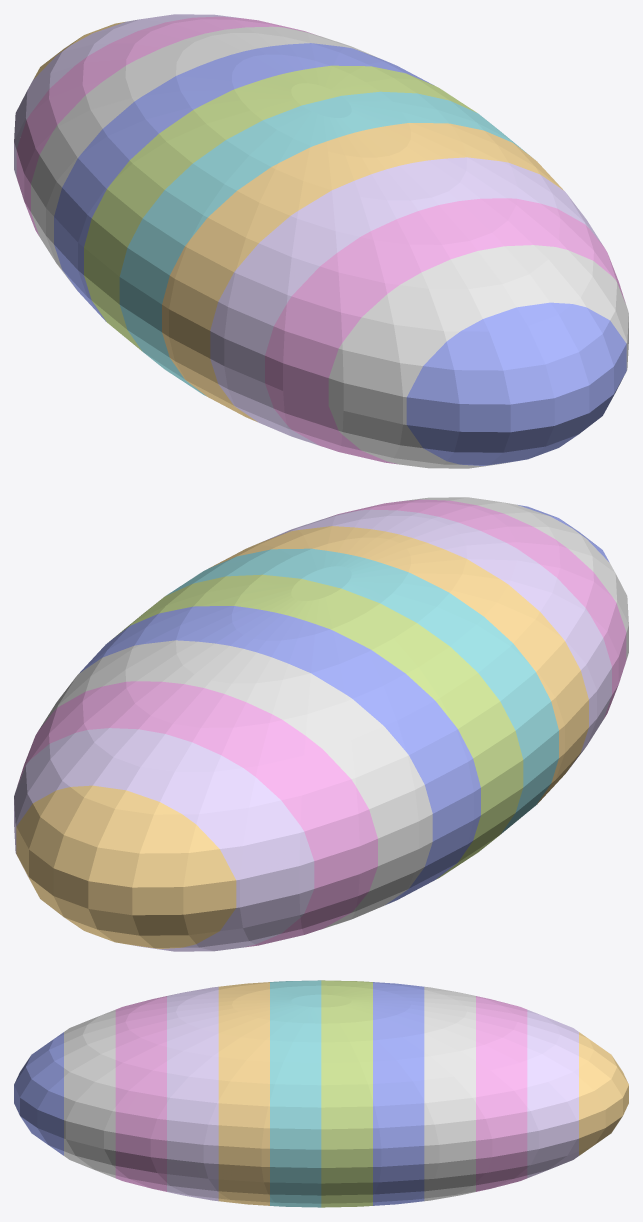
File: generic_ovary_updated.glb
3 renders of one model, top to bottom at view 1: azimuth 30°, elevation 25°; view 2: azimuth 150°, elevation 25°; view 3: azimuth 270°, elevation 25°, orthographic. The views are drawn at different scales.
Visible parts, largest first — view 1: g_oval_ob_A-1-I, g_oval_ob_A-2-I, g_oval_ob_A-3-I, g_oval_ob_A-4-I, g_oval_ob_A-5-I, g_oval_ob_A-6-I, g_oval_ob_A-7-I, g_oval_ob_A-8-I, g_oval_ob_A-9-I, g_oval_ob_A-10-I, g_oval_ob_A-11-I; view 2: g_oval_ob_A-12-I, g_oval_ob_A-11-I, g_oval_ob_A-10-I, g_oval_ob_A-9-I, g_oval_ob_A-8-I, g_oval_ob_A-7-I, g_oval_ob_A-6-I, g_oval_ob_A-5-I, g_oval_ob_A-4-I, g_oval_ob_A-3-I, g_oval_ob_A-2-I; view 3: g_oval_ob_A-6-I, g_oval_ob_A-7-I, g_oval_ob_A-5-I, g_oval_ob_A-8-I, g_oval_ob_A-4-I, g_oval_ob_A-9-I, g_oval_ob_A-3-I, g_oval_ob_A-10-I, g_oval_ob_A-2-I, g_oval_ob_A-11-I, g_oval_ob_A-1-I, g_oval_ob_A-12-I.
Part boxes in pixels (box(x1,y1,x2,y2)): g_oval_ob_A-1-I: box(406, 302, 626, 465); g_oval_ob_A-2-I: box(328, 245, 628, 468); g_oval_ob_A-3-I: box(265, 198, 625, 464); g_oval_ob_A-4-I: box(210, 157, 601, 445); g_oval_ob_A-5-I: box(162, 123, 563, 422); g_oval_ob_A-6-I: box(119, 91, 529, 396); g_oval_ob_A-7-I: box(84, 65, 476, 350); g_oval_ob_A-8-I: box(54, 43, 432, 321); g_oval_ob_A-9-I: box(31, 26, 380, 290); g_oval_ob_A-10-I: box(16, 16, 315, 236); g_oval_ob_A-11-I: box(14, 14, 240, 176); g_oval_ob_A-12-I: box(16, 785, 236, 948); g_oval_ob_A-11-I: box(14, 728, 314, 951); g_oval_ob_A-10-I: box(17, 681, 377, 947); g_oval_ob_A-9-I: box(41, 640, 432, 928); g_oval_ob_A-8-I: box(79, 606, 480, 905); g_oval_ob_A-7-I: box(109, 574, 523, 879); g_oval_ob_A-6-I: box(166, 548, 558, 833); g_oval_ob_A-5-I: box(210, 526, 588, 804); g_oval_ob_A-4-I: box(262, 509, 611, 773); g_oval_ob_A-3-I: box(327, 499, 626, 719); g_oval_ob_A-2-I: box(402, 497, 628, 659); g_oval_ob_A-6-I: box(270, 980, 321, 1207); g_oval_ob_A-7-I: box(321, 980, 372, 1207); g_oval_ob_A-5-I: box(218, 982, 269, 1205); g_oval_ob_A-8-I: box(373, 982, 424, 1205); g_oval_ob_A-4-I: box(167, 986, 218, 1201); g_oval_ob_A-9-I: box(424, 986, 475, 1201); g_oval_ob_A-3-I: box(115, 996, 166, 1191); g_oval_ob_A-10-I: box(476, 996, 527, 1191); g_oval_ob_A-2-I: box(64, 1009, 115, 1178); g_oval_ob_A-11-I: box(527, 1009, 578, 1178); g_oval_ob_A-1-I: box(14, 1032, 63, 1155); g_oval_ob_A-12-I: box(579, 1032, 628, 1155).
Bounding box in the file's own units: 29.86 × 19.9 × 59.71.
